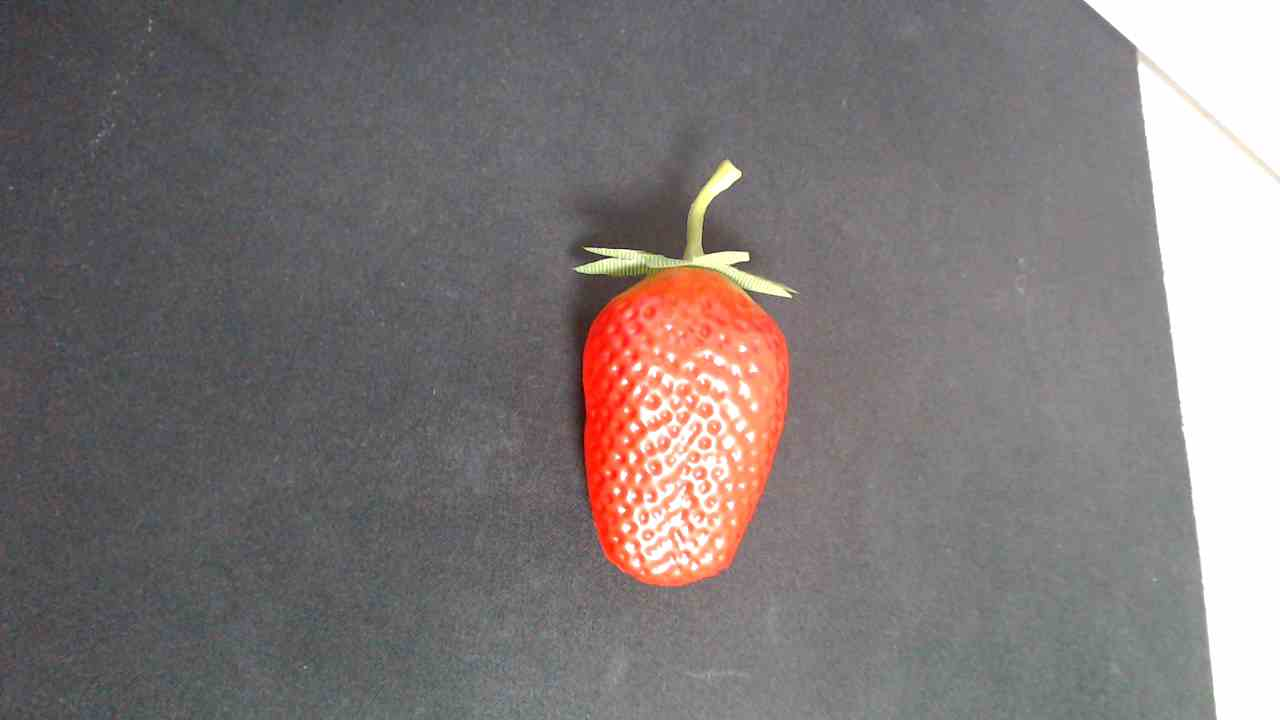strawberry: (574, 256, 802, 593)
